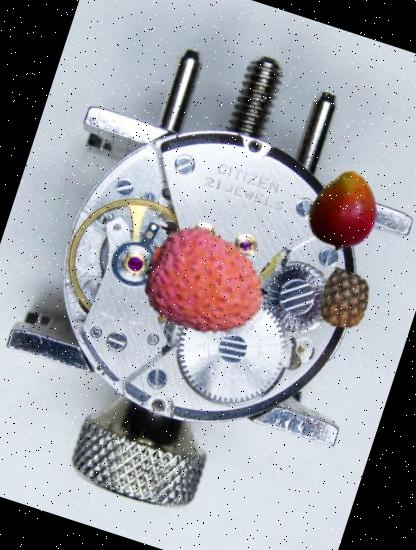Lychee: (130, 208, 282, 360)
Mango: (293, 160, 395, 262)
Pineapple: (308, 264, 380, 336)
